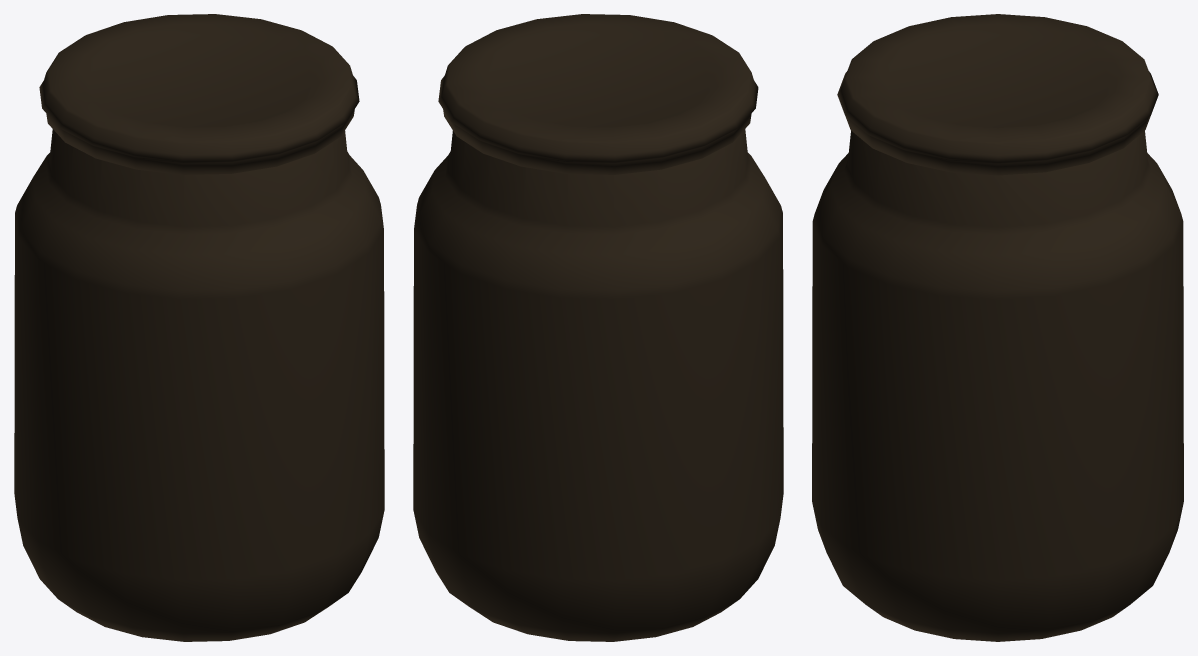
Rendered from jar1.fbx.
3 views of the same model, side by side, from view 1: azimuth 30°, elevation 25°; view 2: azimuth 150°, elevation 25°; view 3: azimuth 270°, elevation 25° (orthographic).
Parts seen in each view (by area): view 1: jar1; view 2: jar1; view 3: jar1.
Boxes of the visible parts, x1,y1,x2,y2 form: jar1: (14, 14, 384, 641); jar1: (413, 14, 783, 641); jar1: (812, 14, 1183, 641).
Size of the model in its own units: 0.1356 by 0.2035 by 0.1356.
